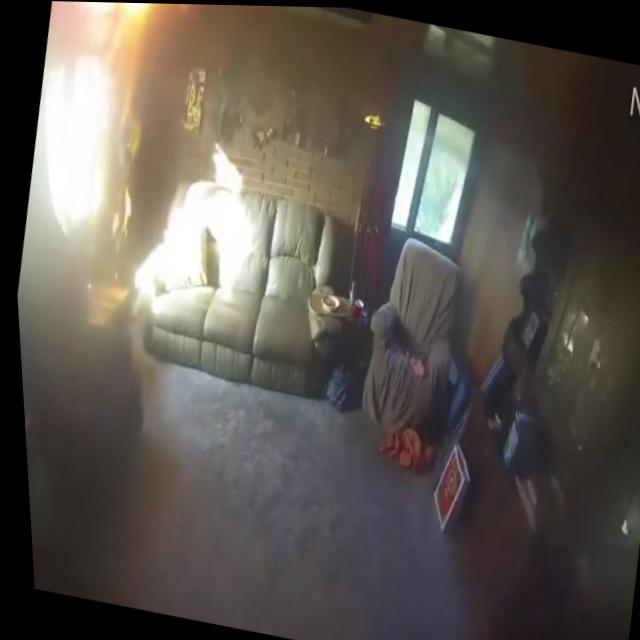fire: (88, 74, 156, 259), (67, 1, 206, 47)
